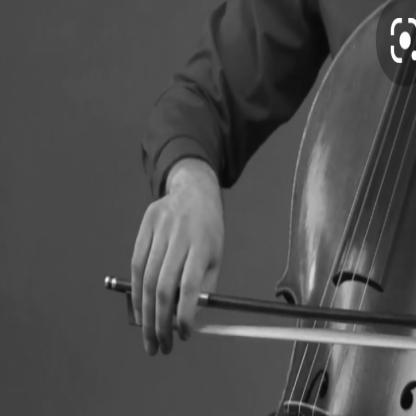good: (114, 186, 223, 358)
